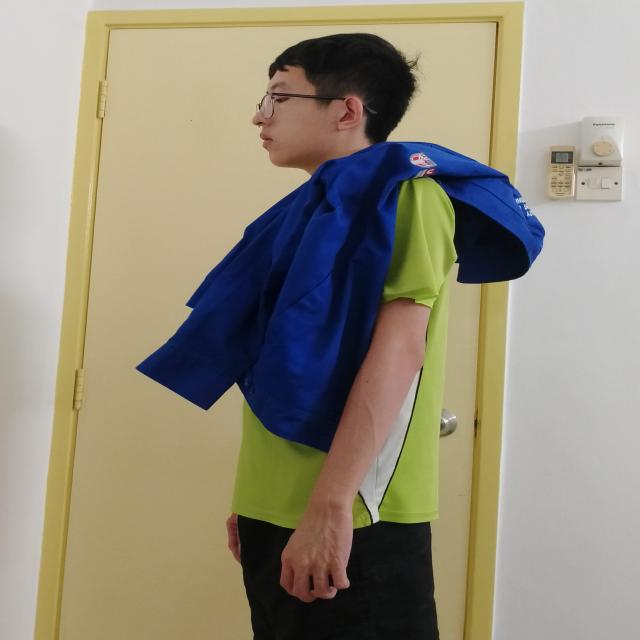person_without_labcoat: (137, 34, 544, 640)
